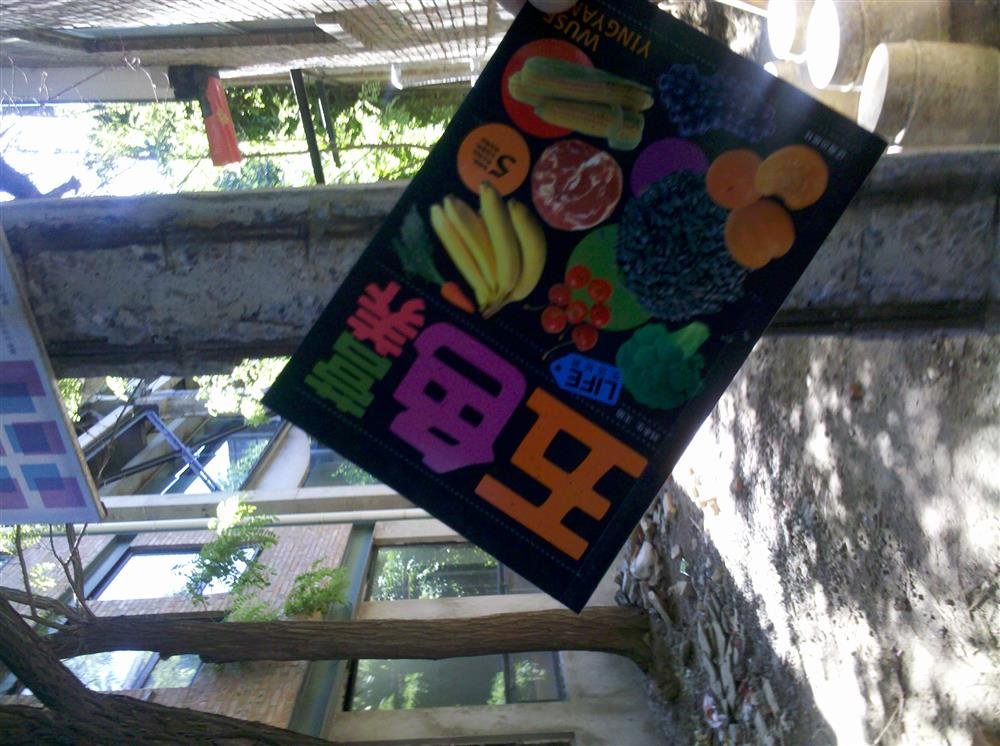Nutrient_Book: (261, 0, 888, 618)
